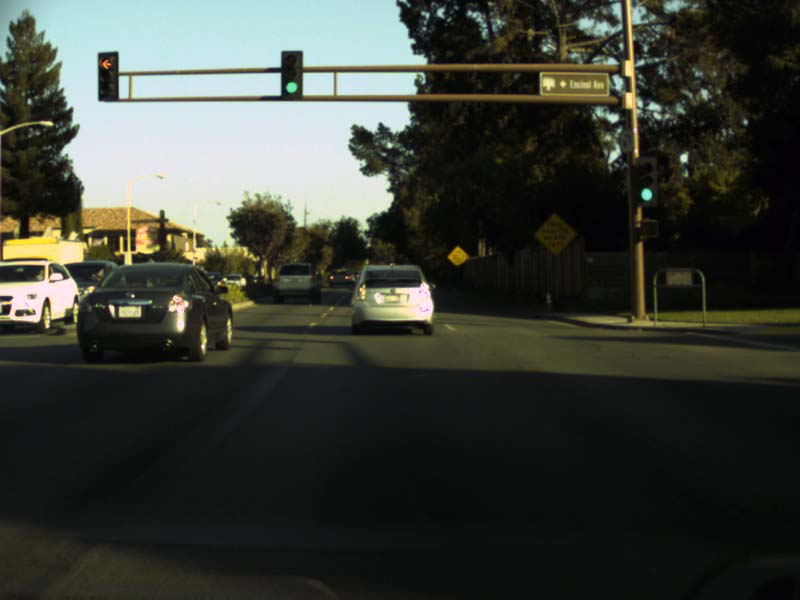Green: (279, 50, 302, 101), (635, 156, 657, 206)
Red: (97, 51, 119, 100)
